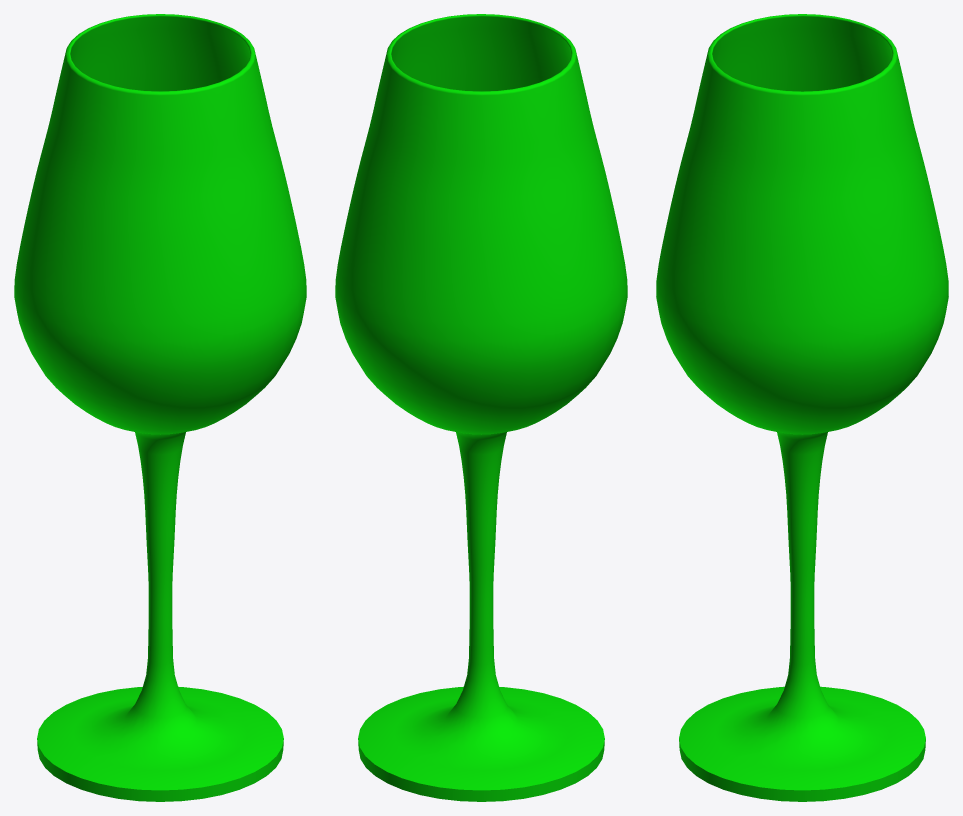
The model's file is Glass2_LOD_0.fbx.
3 renders of one model, left to right at view 1: azimuth 30°, elevation 25°; view 2: azimuth 150°, elevation 25°; view 3: azimuth 270°, elevation 25°, orthographic.
Parts seen in each view (by area): view 1: Glass2_LOD_0; view 2: Glass2_LOD_0; view 3: Glass2_LOD_0.
Part boxes in pixels (x1=…): Glass2_LOD_0: x1=14, y1=14, x2=306, y2=801; Glass2_LOD_0: x1=335, y1=14, x2=627, y2=801; Glass2_LOD_0: x1=656, y1=14, x2=948, y2=801.
Size of the model in its own units: 6.93 by 18.25 by 6.93.
